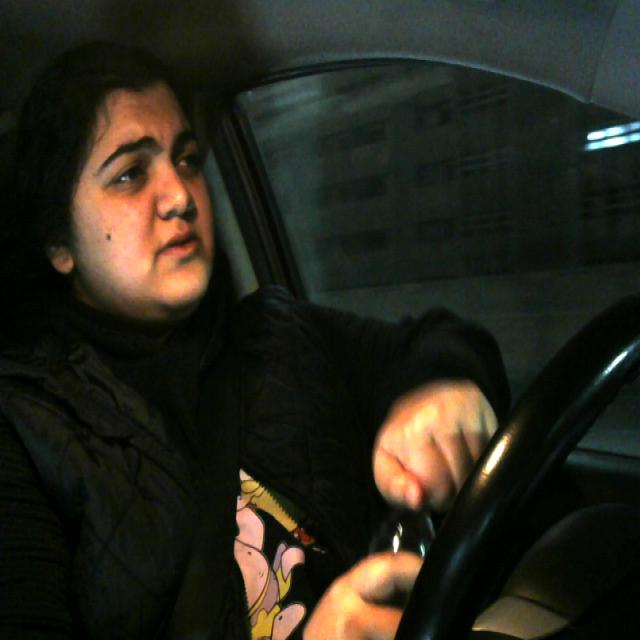drinking: (367, 480, 443, 640)
